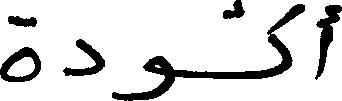X: (0, 11, 40, 86), (267, 0, 302, 82), (317, 0, 341, 83), (64, 34, 104, 80), (143, 51, 175, 100)
